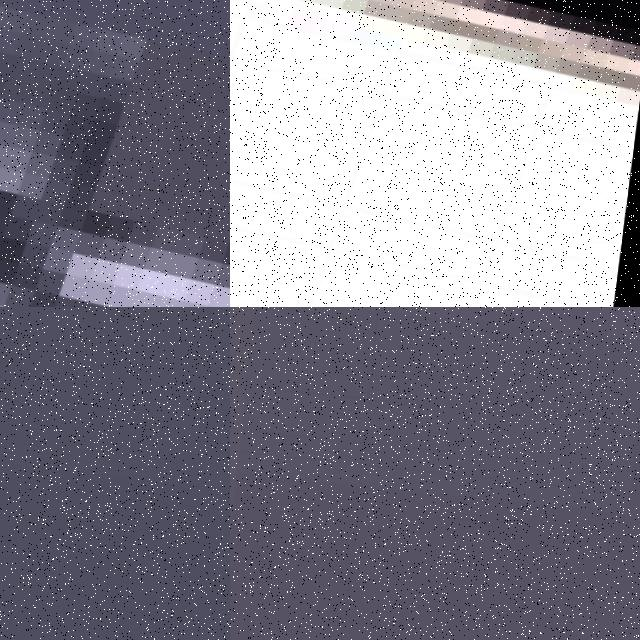0: (0, 0, 230, 307)
drone: (230, 0, 640, 307)
